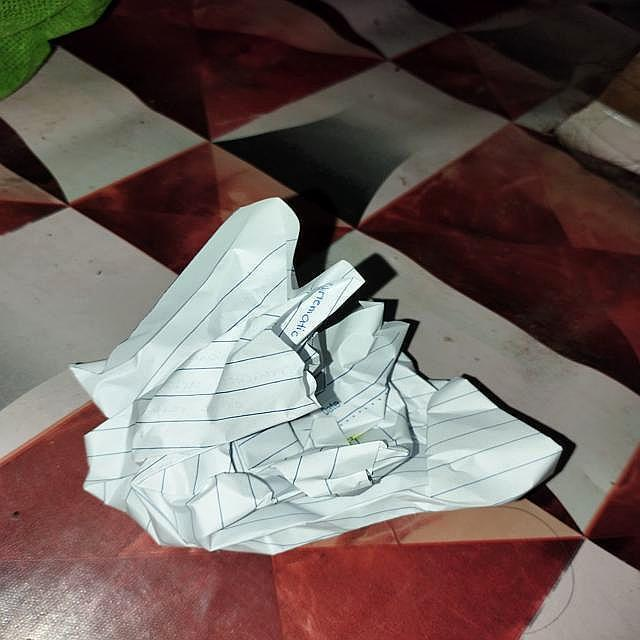Biodegradable: (78, 201, 562, 556)
